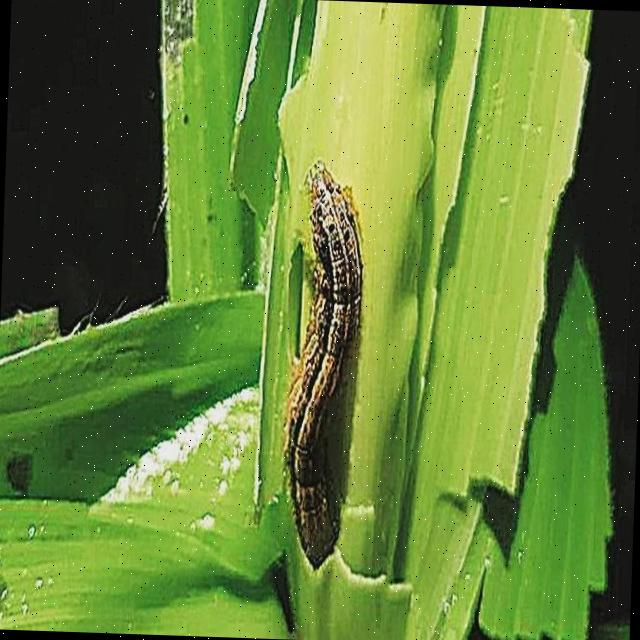worm: (277, 158, 369, 572)
